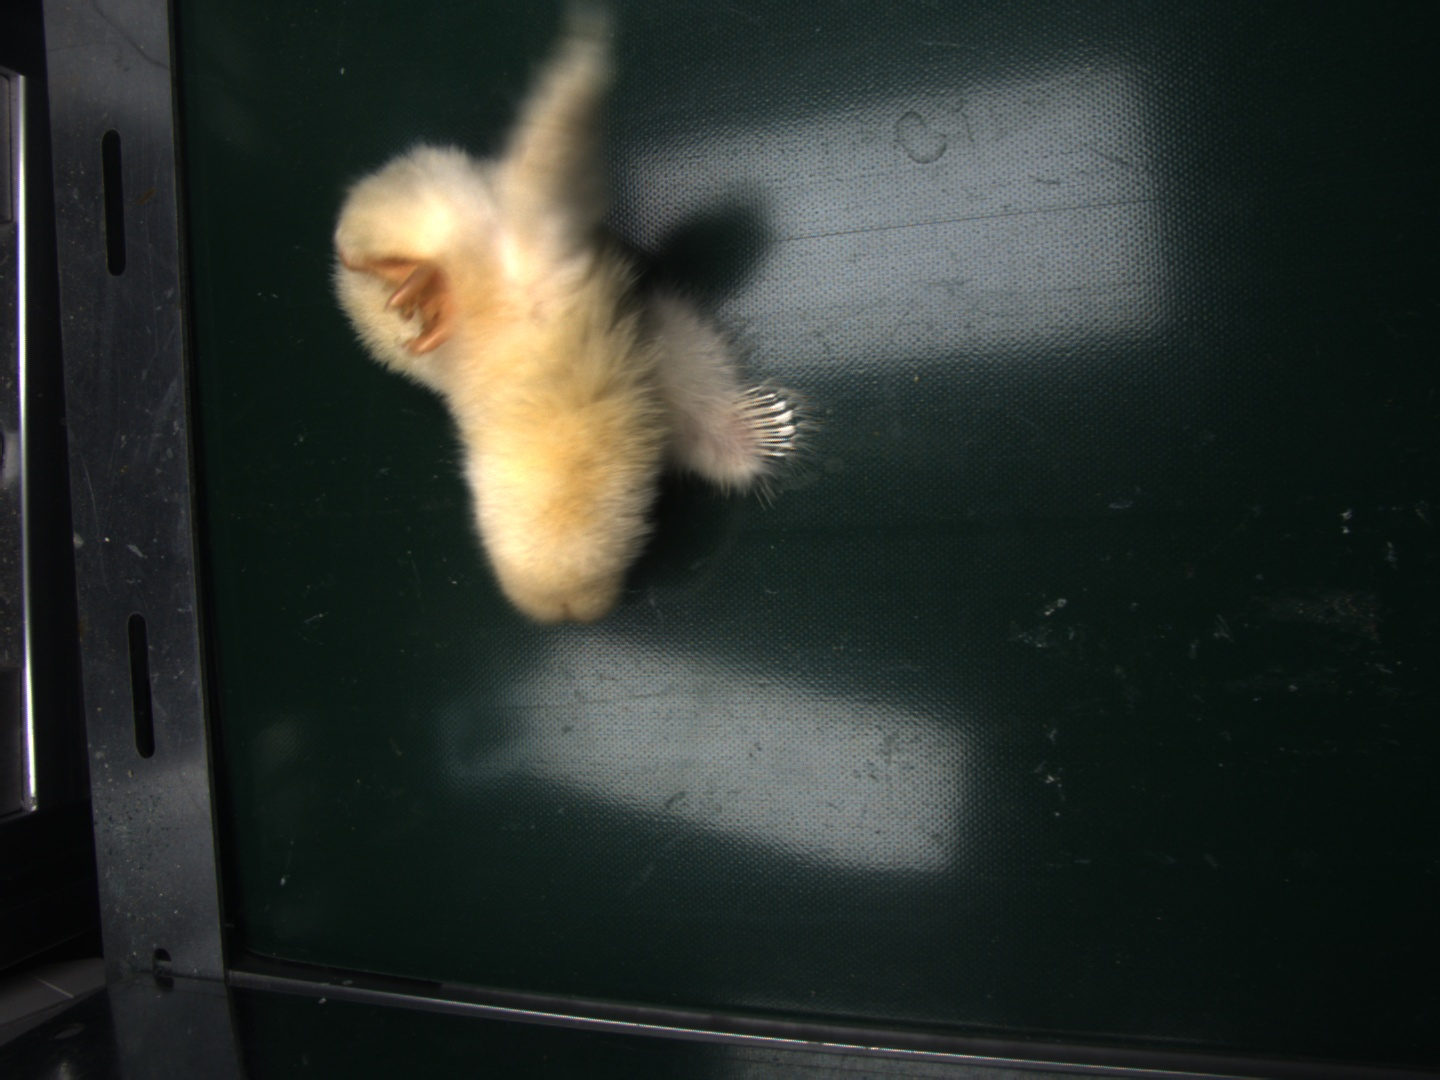male: (726, 380, 794, 463)
